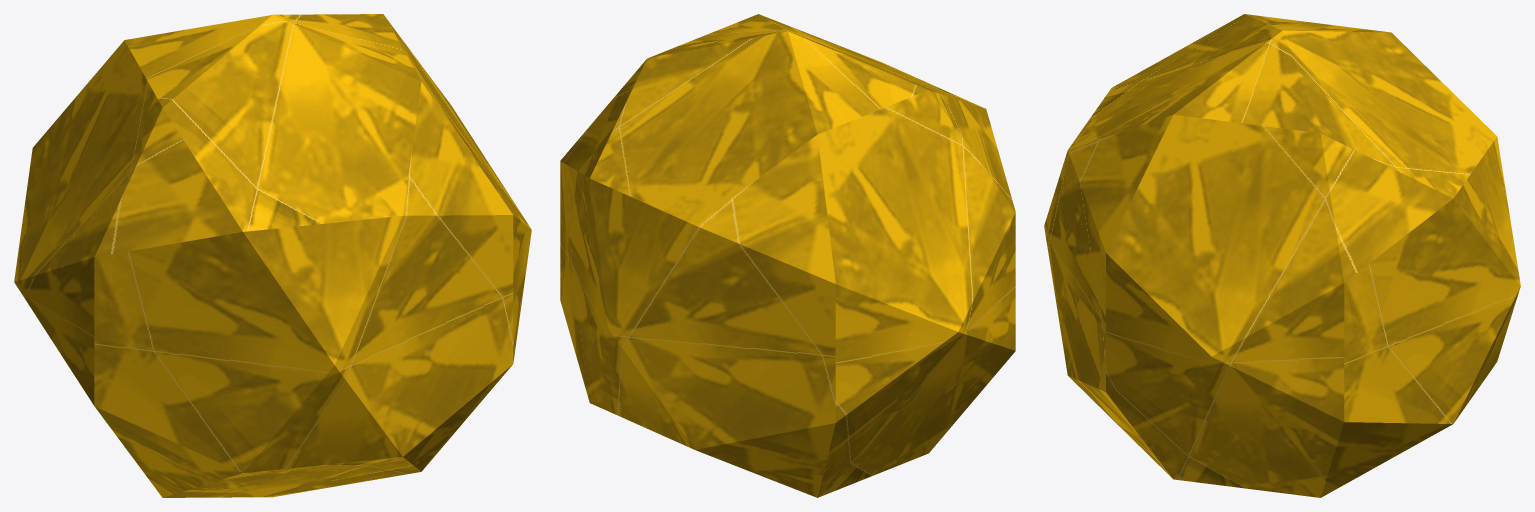
Rendered from pickup.FBX.
3 views of the same model, side by side, from view 1: azimuth 30°, elevation 25°; view 2: azimuth 150°, elevation 25°; view 3: azimuth 270°, elevation 25° (orthographic). The views are drawn at different scales.
Parts seen in each view (by area): view 1: Hedra004; view 2: Hedra004; view 3: Hedra004.
Part boxes in pixels (left/top/right/bottom): Hedra004: left=14, top=14, right=531, bottom=497; Hedra004: left=560, top=14, right=1015, bottom=497; Hedra004: left=1044, top=14, right=1520, bottom=497.
Bounding box in the file's own units: 0.6328 × 0.6602 × 0.6328.
Materials: 1 (1 with a texture image).
